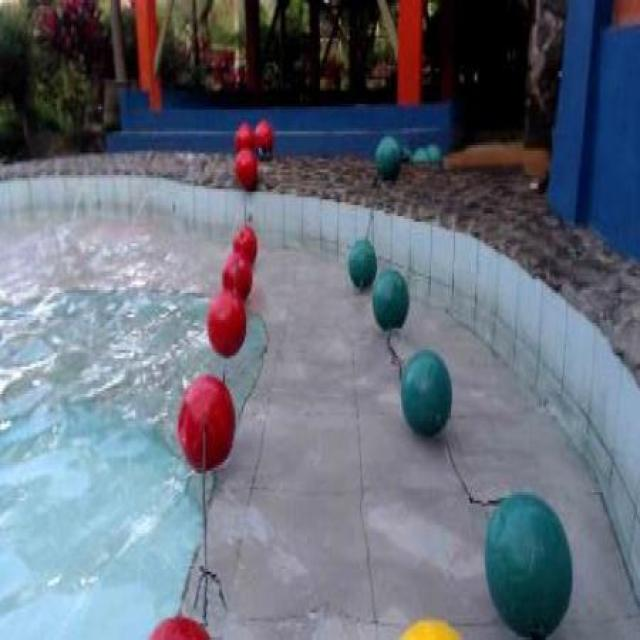buoy: (482, 489, 573, 637), (177, 375, 235, 473), (400, 347, 452, 435), (206, 290, 246, 361), (370, 267, 408, 329), (220, 248, 250, 300), (346, 238, 376, 288), (375, 130, 400, 180), (231, 223, 258, 269), (233, 146, 256, 188), (254, 120, 272, 153), (234, 123, 254, 150)
